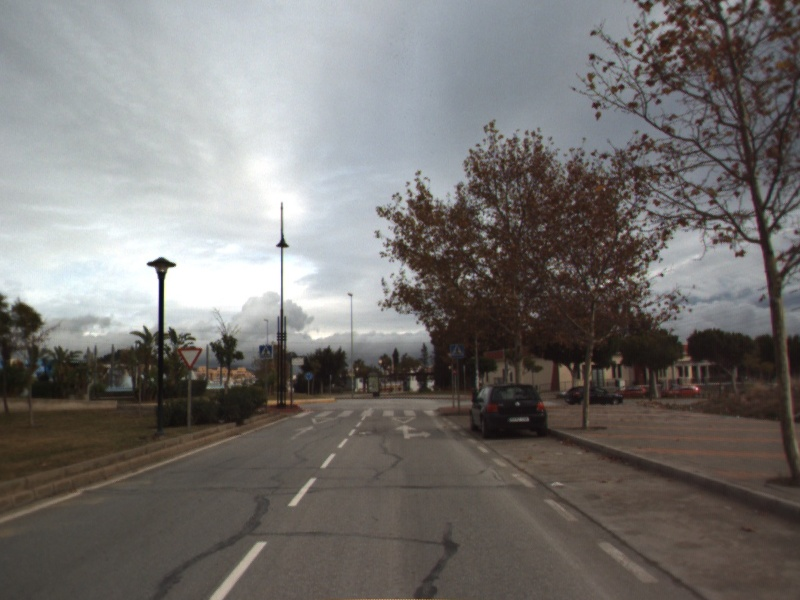STRAIGHT: (287, 424, 319, 442)
STRAIGHT_RIGHT: (392, 422, 433, 441)
